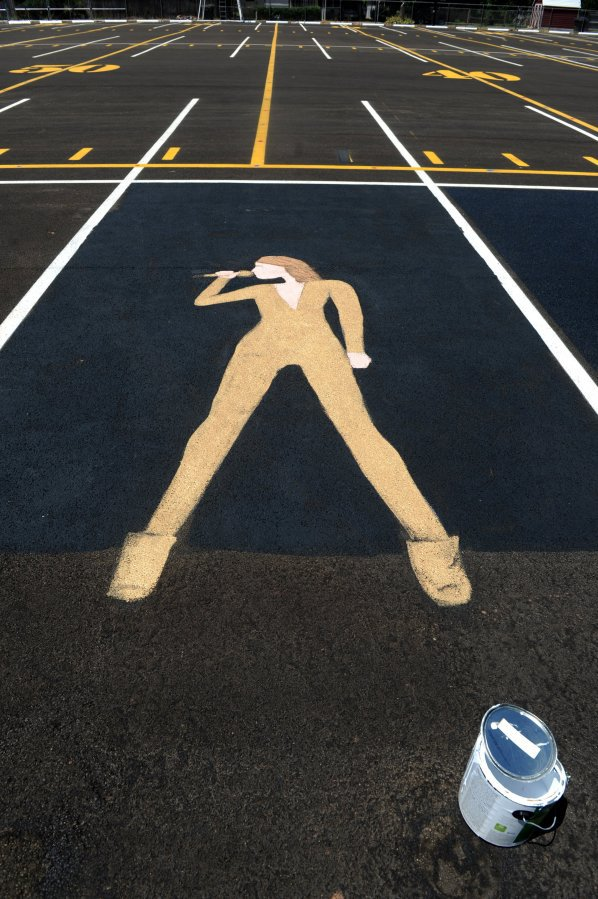empyt_space: (124, 93, 440, 205), (359, 91, 598, 194), (1, 87, 198, 194), (317, 38, 434, 71), (129, 41, 239, 65), (229, 43, 342, 64), (38, 42, 166, 57)
